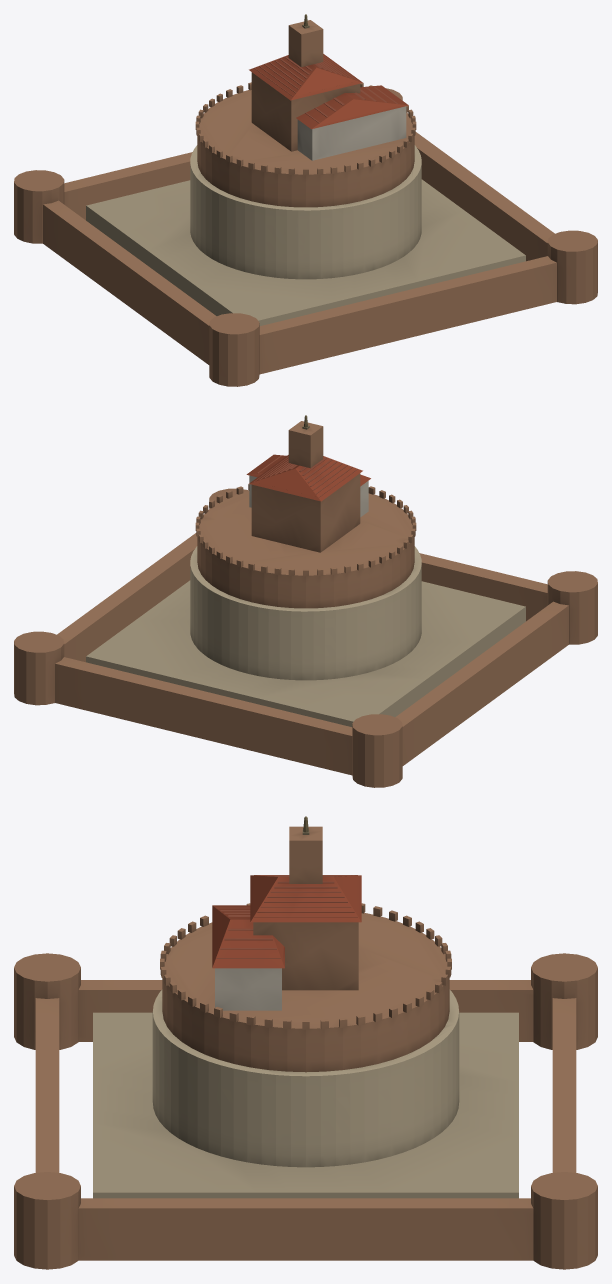
The model's file is castel-santangelo-medieval.glb.
The picture shows the model from 3 angles, top to bottom: view 1: azimuth 30°, elevation 25°; view 2: azimuth 150°, elevation 25°; view 3: azimuth 270°, elevation 25°; orthographic projection. The views are drawn at different scales.
Parts seen in each view (by area): view 1: p0_base, p1_drum, p2_castle; view 2: p0_base, p1_drum, p2_castle; view 3: p0_base, p1_drum, p2_castle.
Part boxes in pixels (box(x1,y1,x2,y2)): p0_base: box(14, 88, 597, 386); p1_drum: box(190, 82, 421, 279); p2_castle: box(249, 14, 408, 160); p0_base: box(14, 488, 597, 787); p1_drum: box(190, 484, 421, 680); p2_castle: box(246, 415, 370, 552); p0_base: box(14, 953, 597, 1269); p1_drum: box(152, 903, 459, 1167); p2_castle: box(212, 816, 361, 1010).
Bounding box in the file's own units: 122 × 76.03 × 122.
